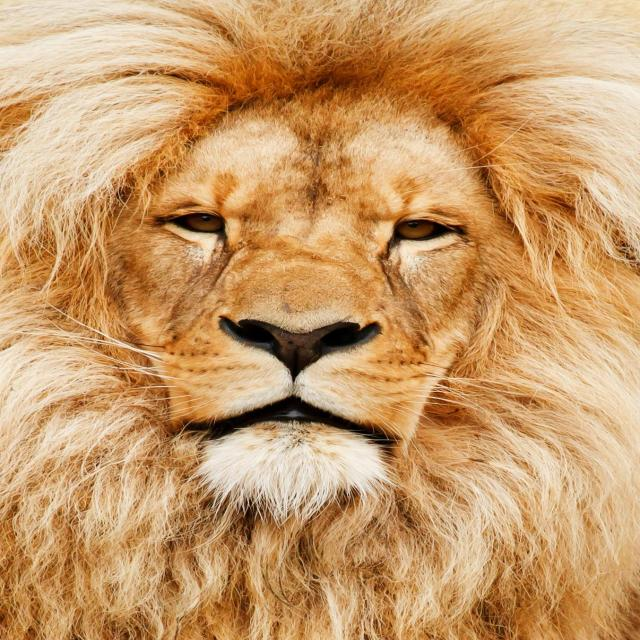Lion: (9, 18, 640, 640)
